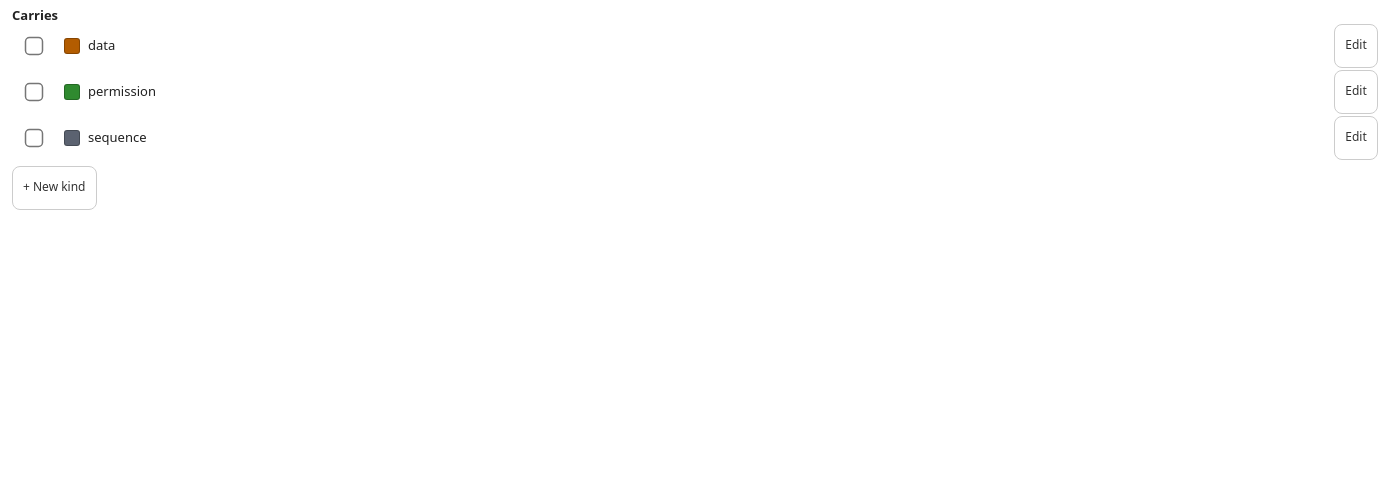
creating a kind › refuses a duplicate and writes nothing
Click the button with test id "kind-add". click: (54, 188)
box: [12,166,96,210]
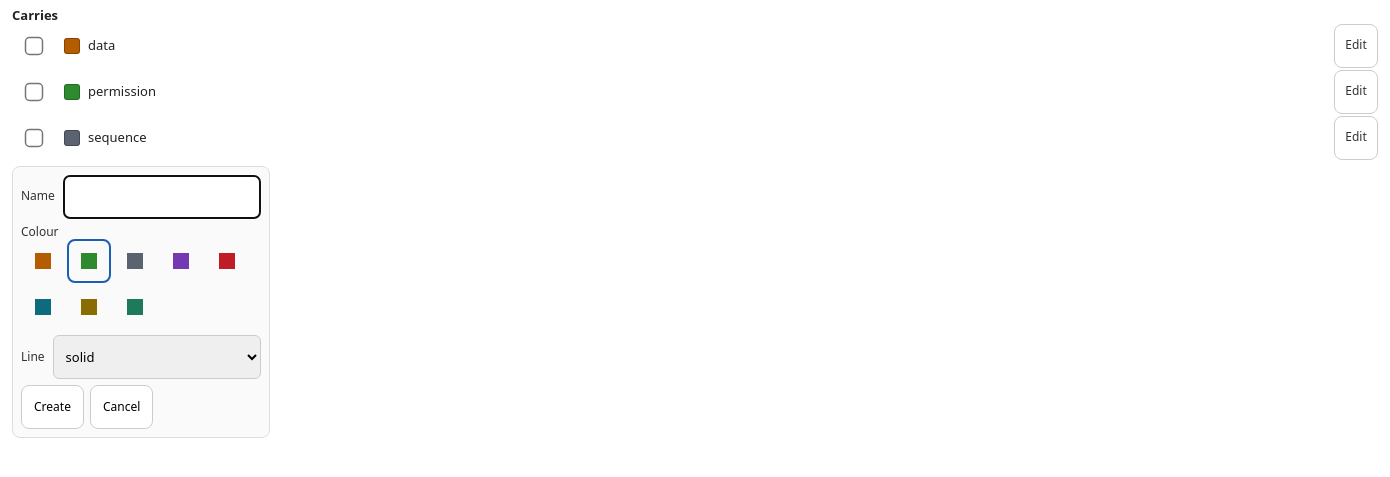
Type "data" into the field with test id "kind-form-label". click: (162, 197)
box: [63,175,261,219]
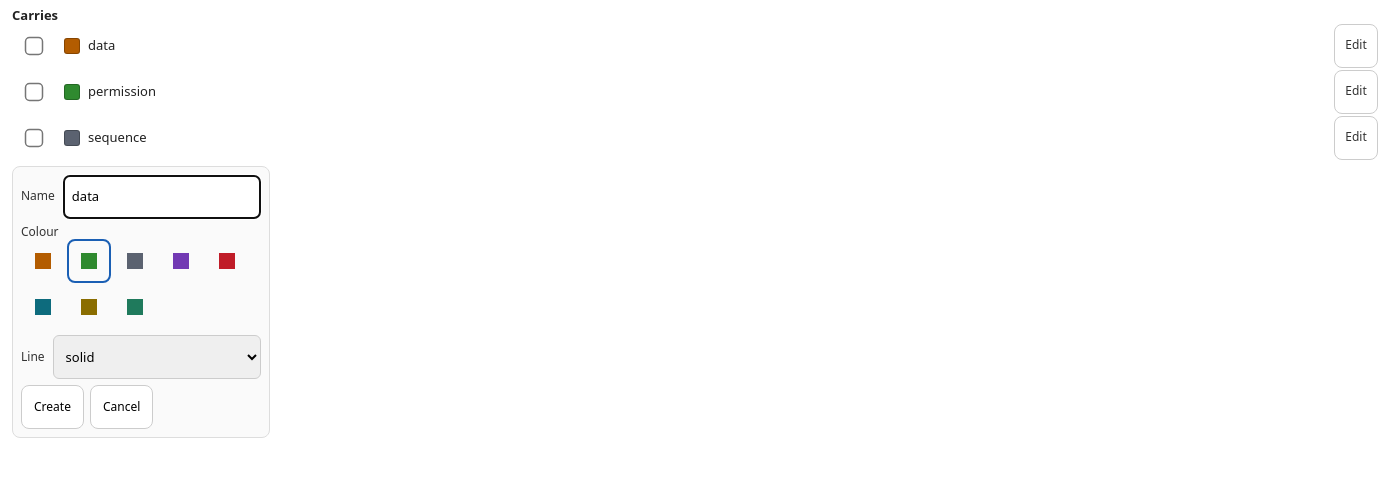
Click the radio button with test id "kind-form-colour-violet". click: (181, 261)
box: [159,239,203,283]
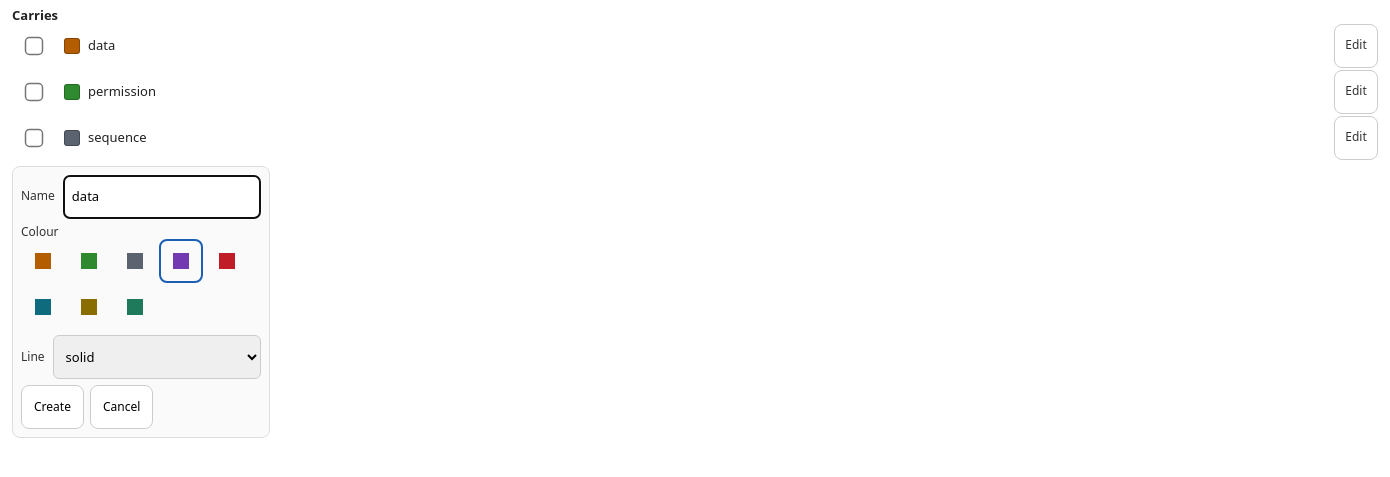
Click the button with test id "kind-form-save". click: (52, 407)
box: [21,385,84,429]
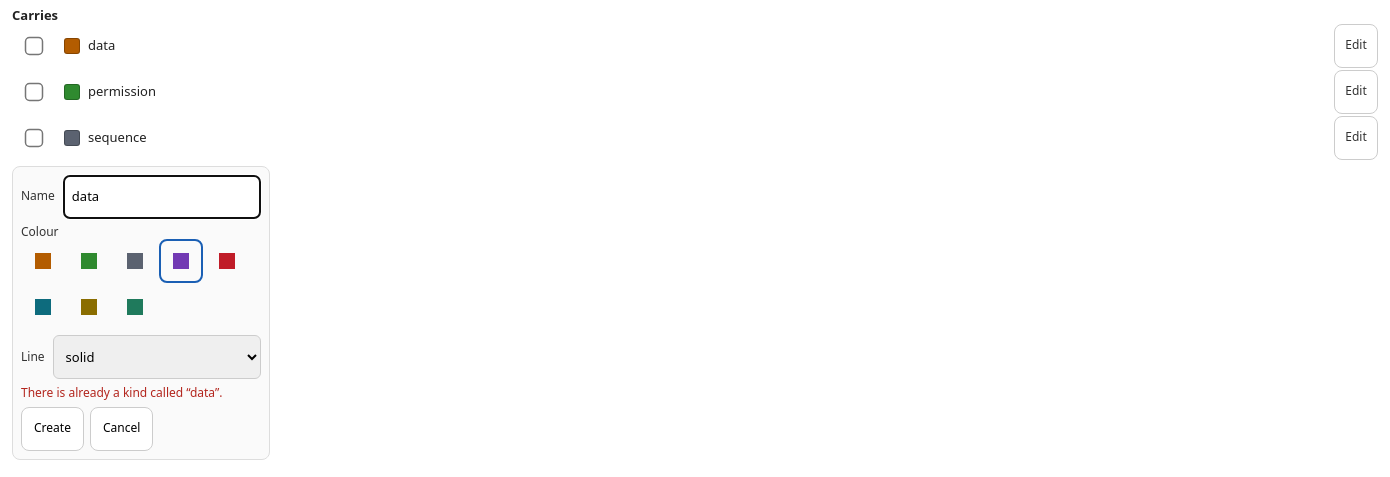
Check: the message with test id "kind-form-error" shows "already a kind", box [21,384,222,401]
